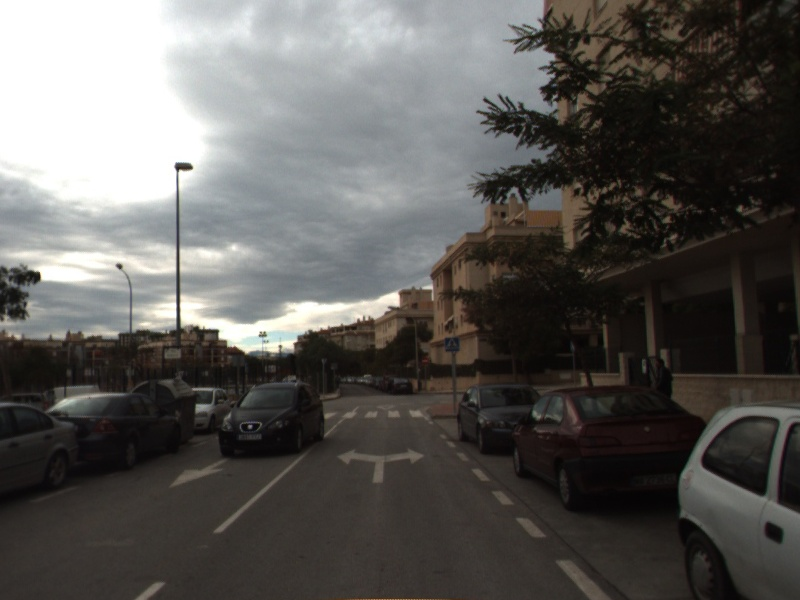LEFT_RIGHT: (335, 445, 426, 486)
